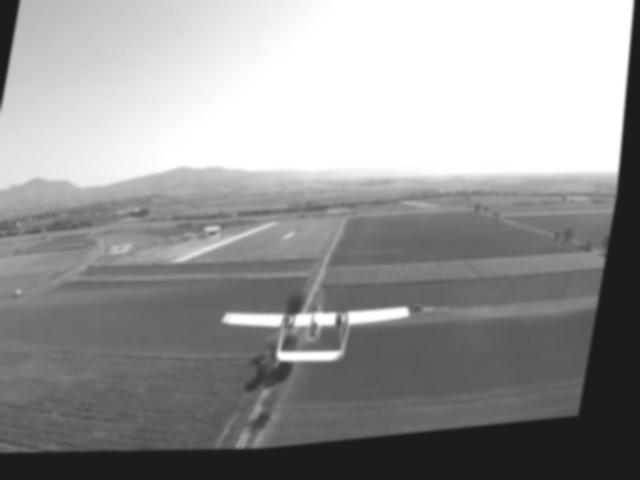hedef: (214, 287, 422, 395)
